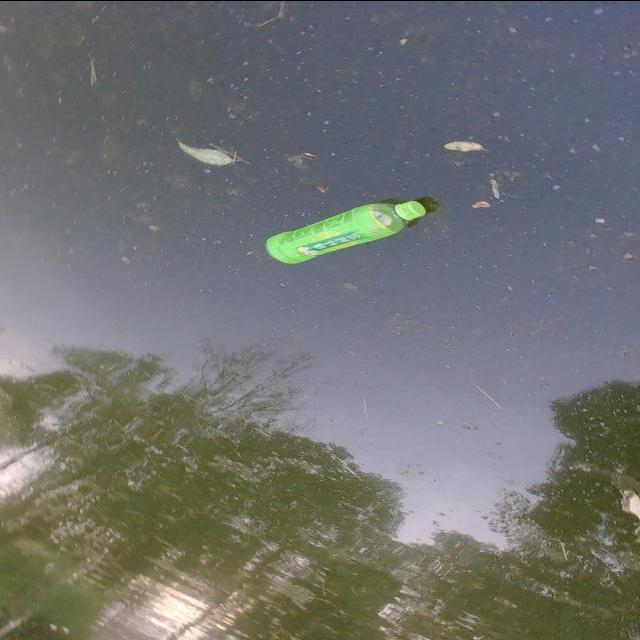Bottle: (258, 187, 432, 273)
